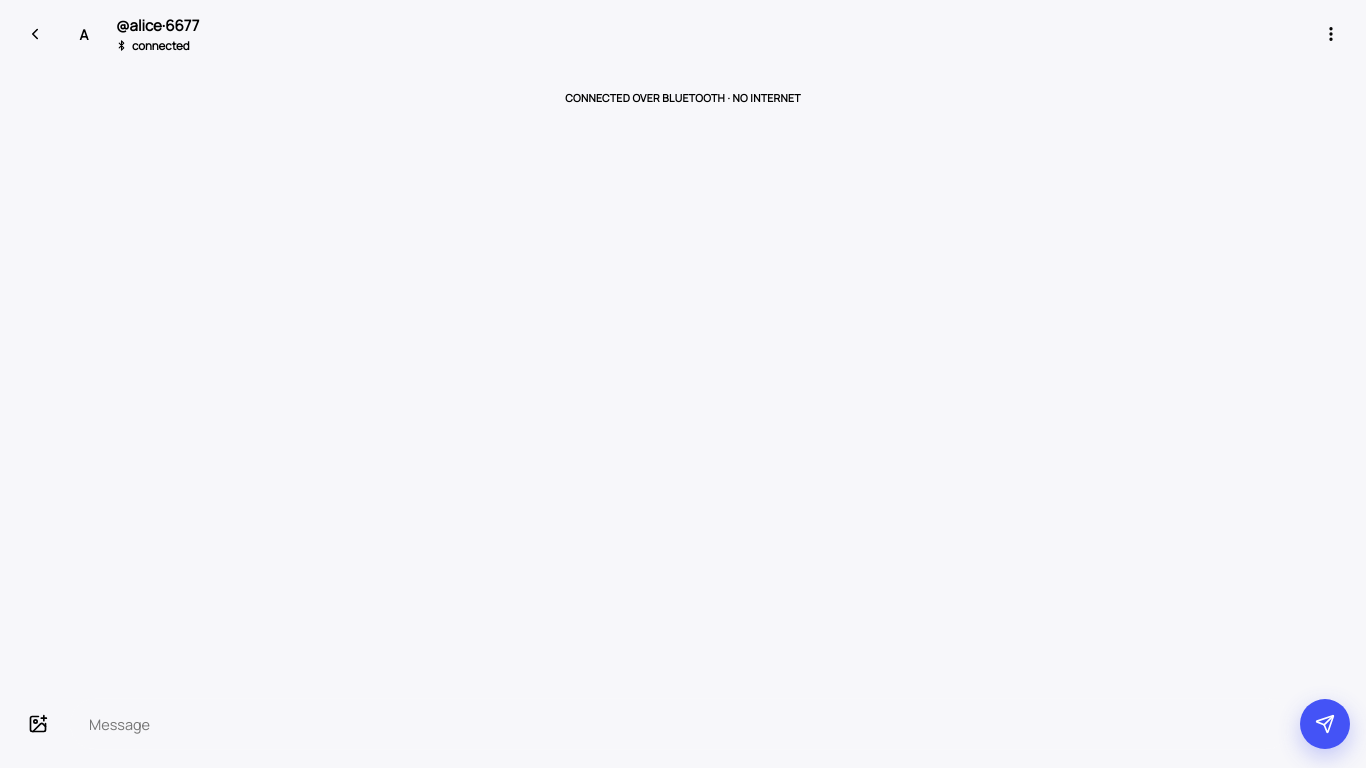
ChatScreen — resending a failed message › re-POSTs a message the core never stored, reusing its client id
Type "are you there" into the field with placeholder "Message" at (680, 724), box x1=87 y1=714 x2=1273 y2=734
Then press Enter
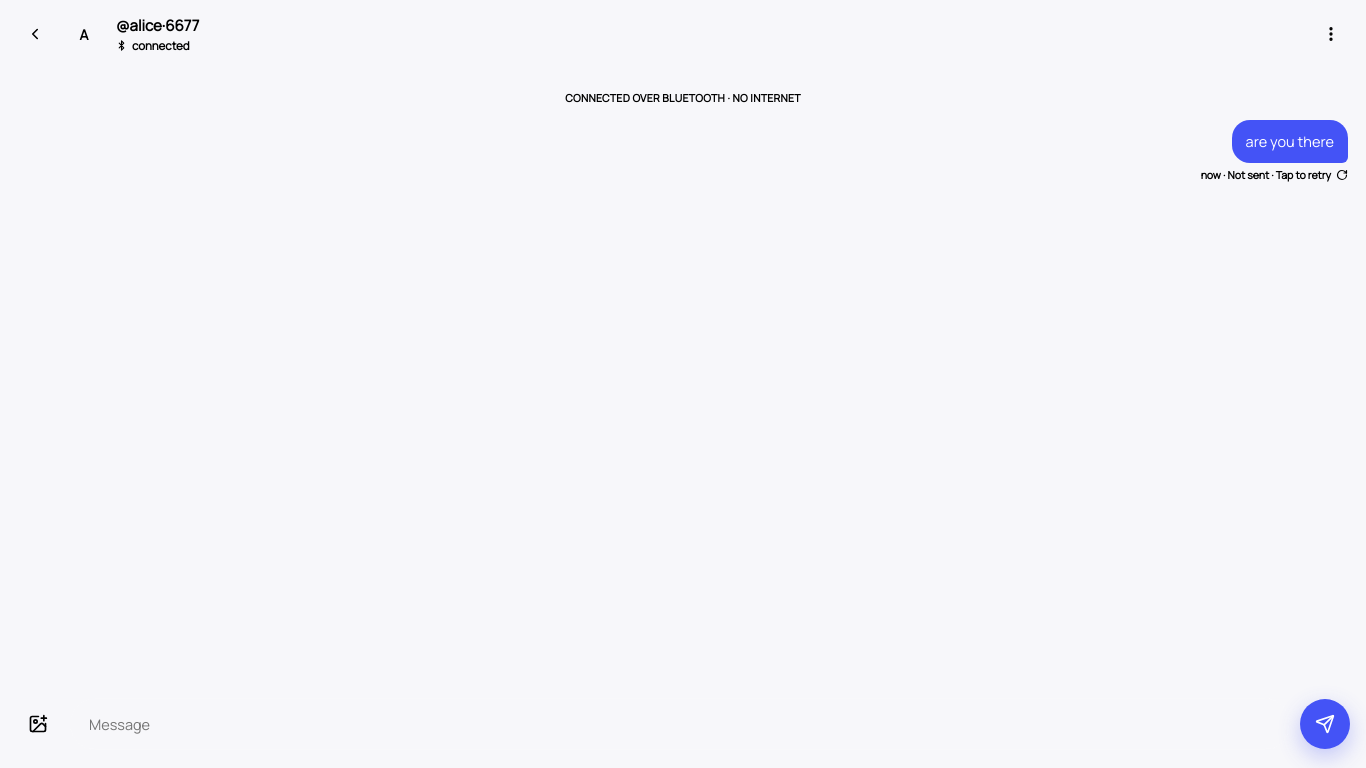
Click the button with aria-label "Retry sending" at (1274, 175), box x1=1201 y1=168 x2=1348 y2=182
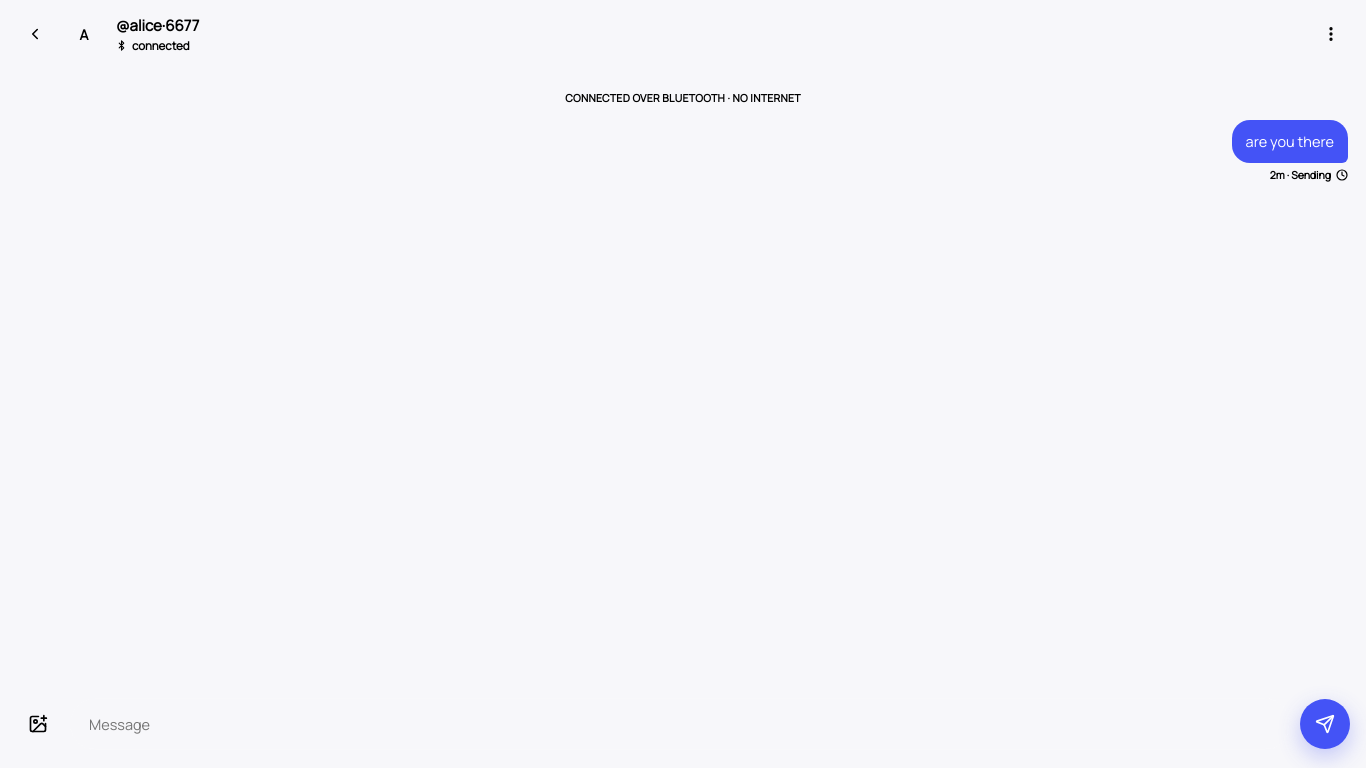
Expected: the text "2m · Sending" is shown, x1=1270 y1=168 x2=1348 y2=182
